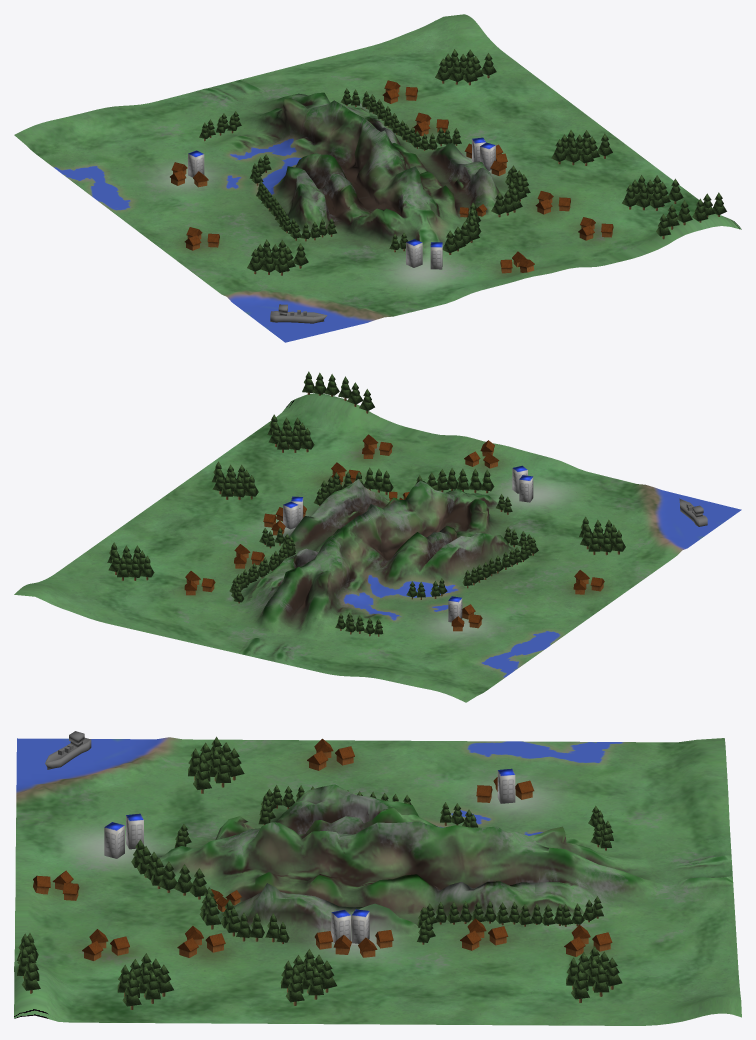
Rendered from MapaTEXTURAS.glb.
3 renders of one model, top to bottom at view 1: azimuth 30°, elevation 25°; view 2: azimuth 150°, elevation 25°; view 3: azimuth 270°, elevation 25°, orthographic. The views are drawn at different scales.
Visible parts, largest first — view 1: aMAPA, Cube.035; view 2: aMAPA; view 3: aMAPA, Cube.035, Cube.029, Cube.031, Cube.030, Cube, Cube.032.
Part boxes in pixels (x1,y1,x2,y2): aMAPA: (14,14,741,342); Cube.035: (270,304,327,323); aMAPA: (14,393,741,702); aMAPA: (14,737,741,1025); Cube.035: (45,731,91,769); Cube.029: (104,822,124,858); Cube.031: (497,768,515,803); Cube.030: (351,909,369,943); Cube: (126,813,143,849); Cube.032: (331,909,350,942).
Size of the model in its own units: 1.86 by 0.1994 by 1.98.
5 materials, 4 textured.
